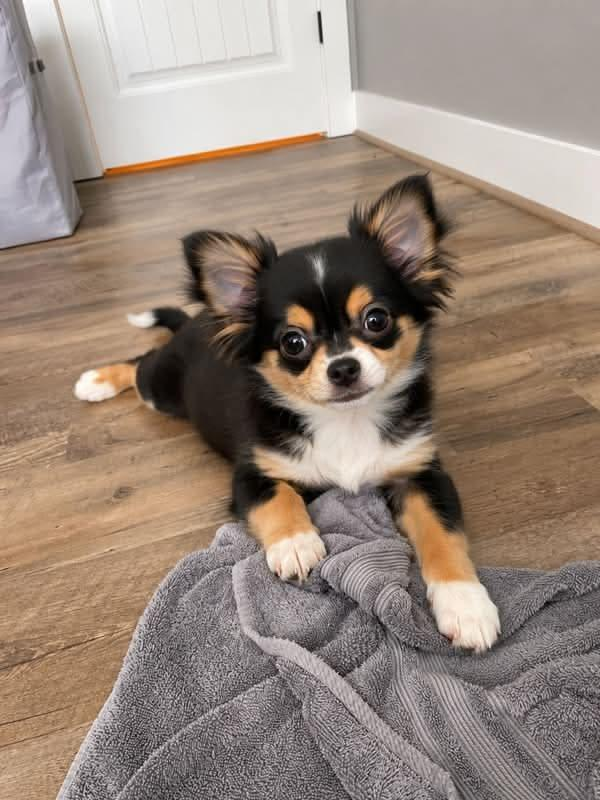dog: (75, 176, 498, 650)
